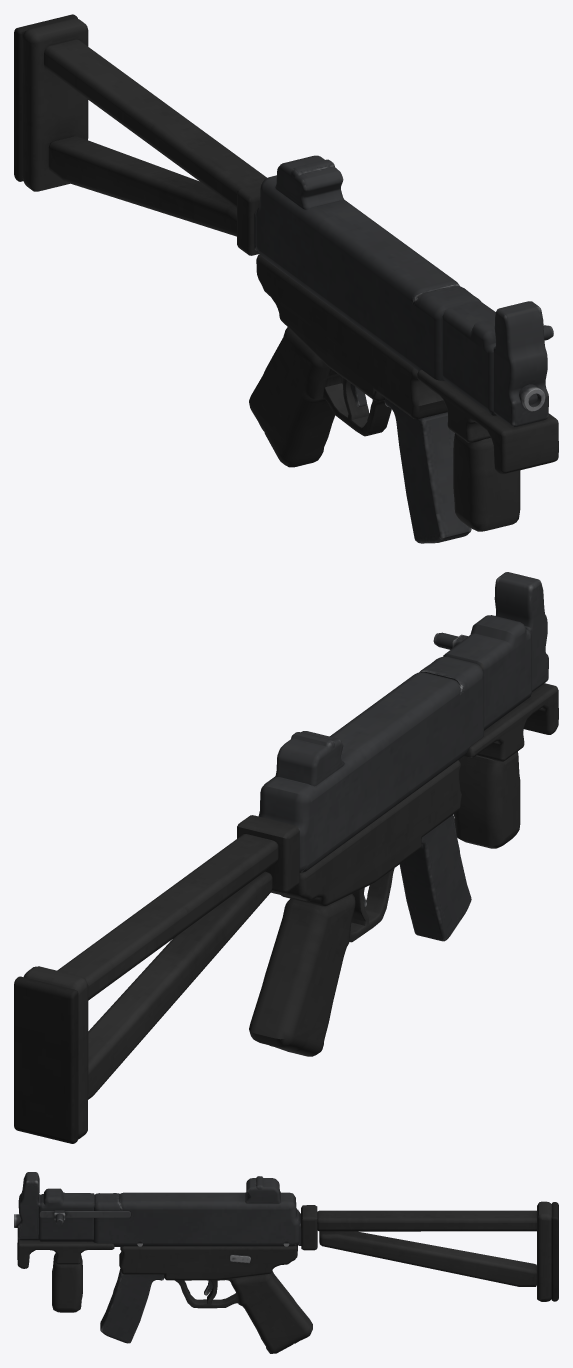
The model's file is smg_mp5k.glb.
3 renders of one model, top to bottom at view 1: azimuth 30°, elevation 25°; view 2: azimuth 150°, elevation 25°; view 3: azimuth 270°, elevation 25°, orthographic. The views are drawn at different scales.
Visible parts, largest first — view 1: body, mag_mesh; view 2: body, mag_mesh; view 3: body, mag_mesh.
Boxes of the visible parts, x1,y1,x2,y2 form: body: [14, 14, 558, 531]; mag_mesh: [384, 398, 471, 543]; body: [14, 572, 558, 1143]; mag_mesh: [399, 814, 471, 941]; body: [14, 1172, 558, 1353]; mag_mesh: [100, 1269, 164, 1343].
Bounding box in the file's own units: 0.061 × 0.2102 × 0.596.
Materials: 1 (1 with a texture image).
